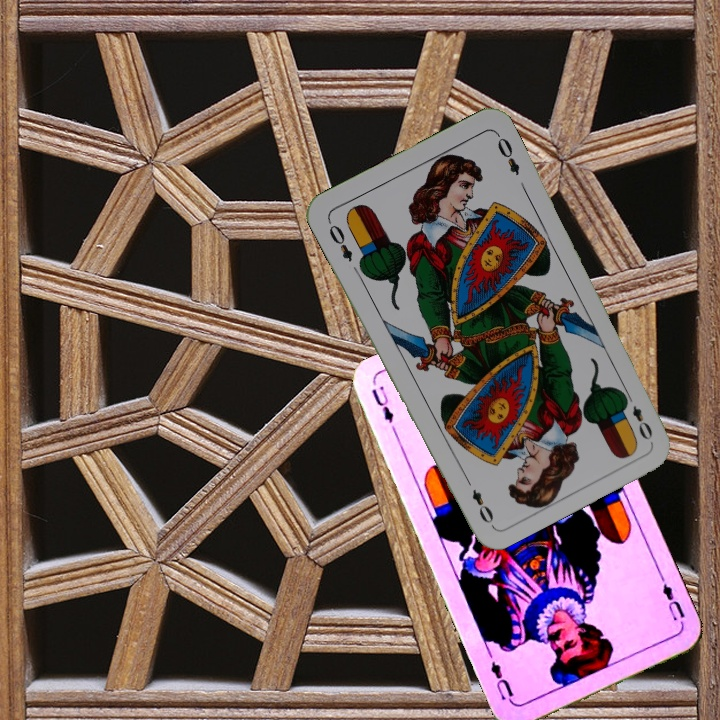EO: (620, 388, 655, 443), (323, 216, 355, 265)
EU: (658, 579, 688, 629), (367, 381, 397, 426)
